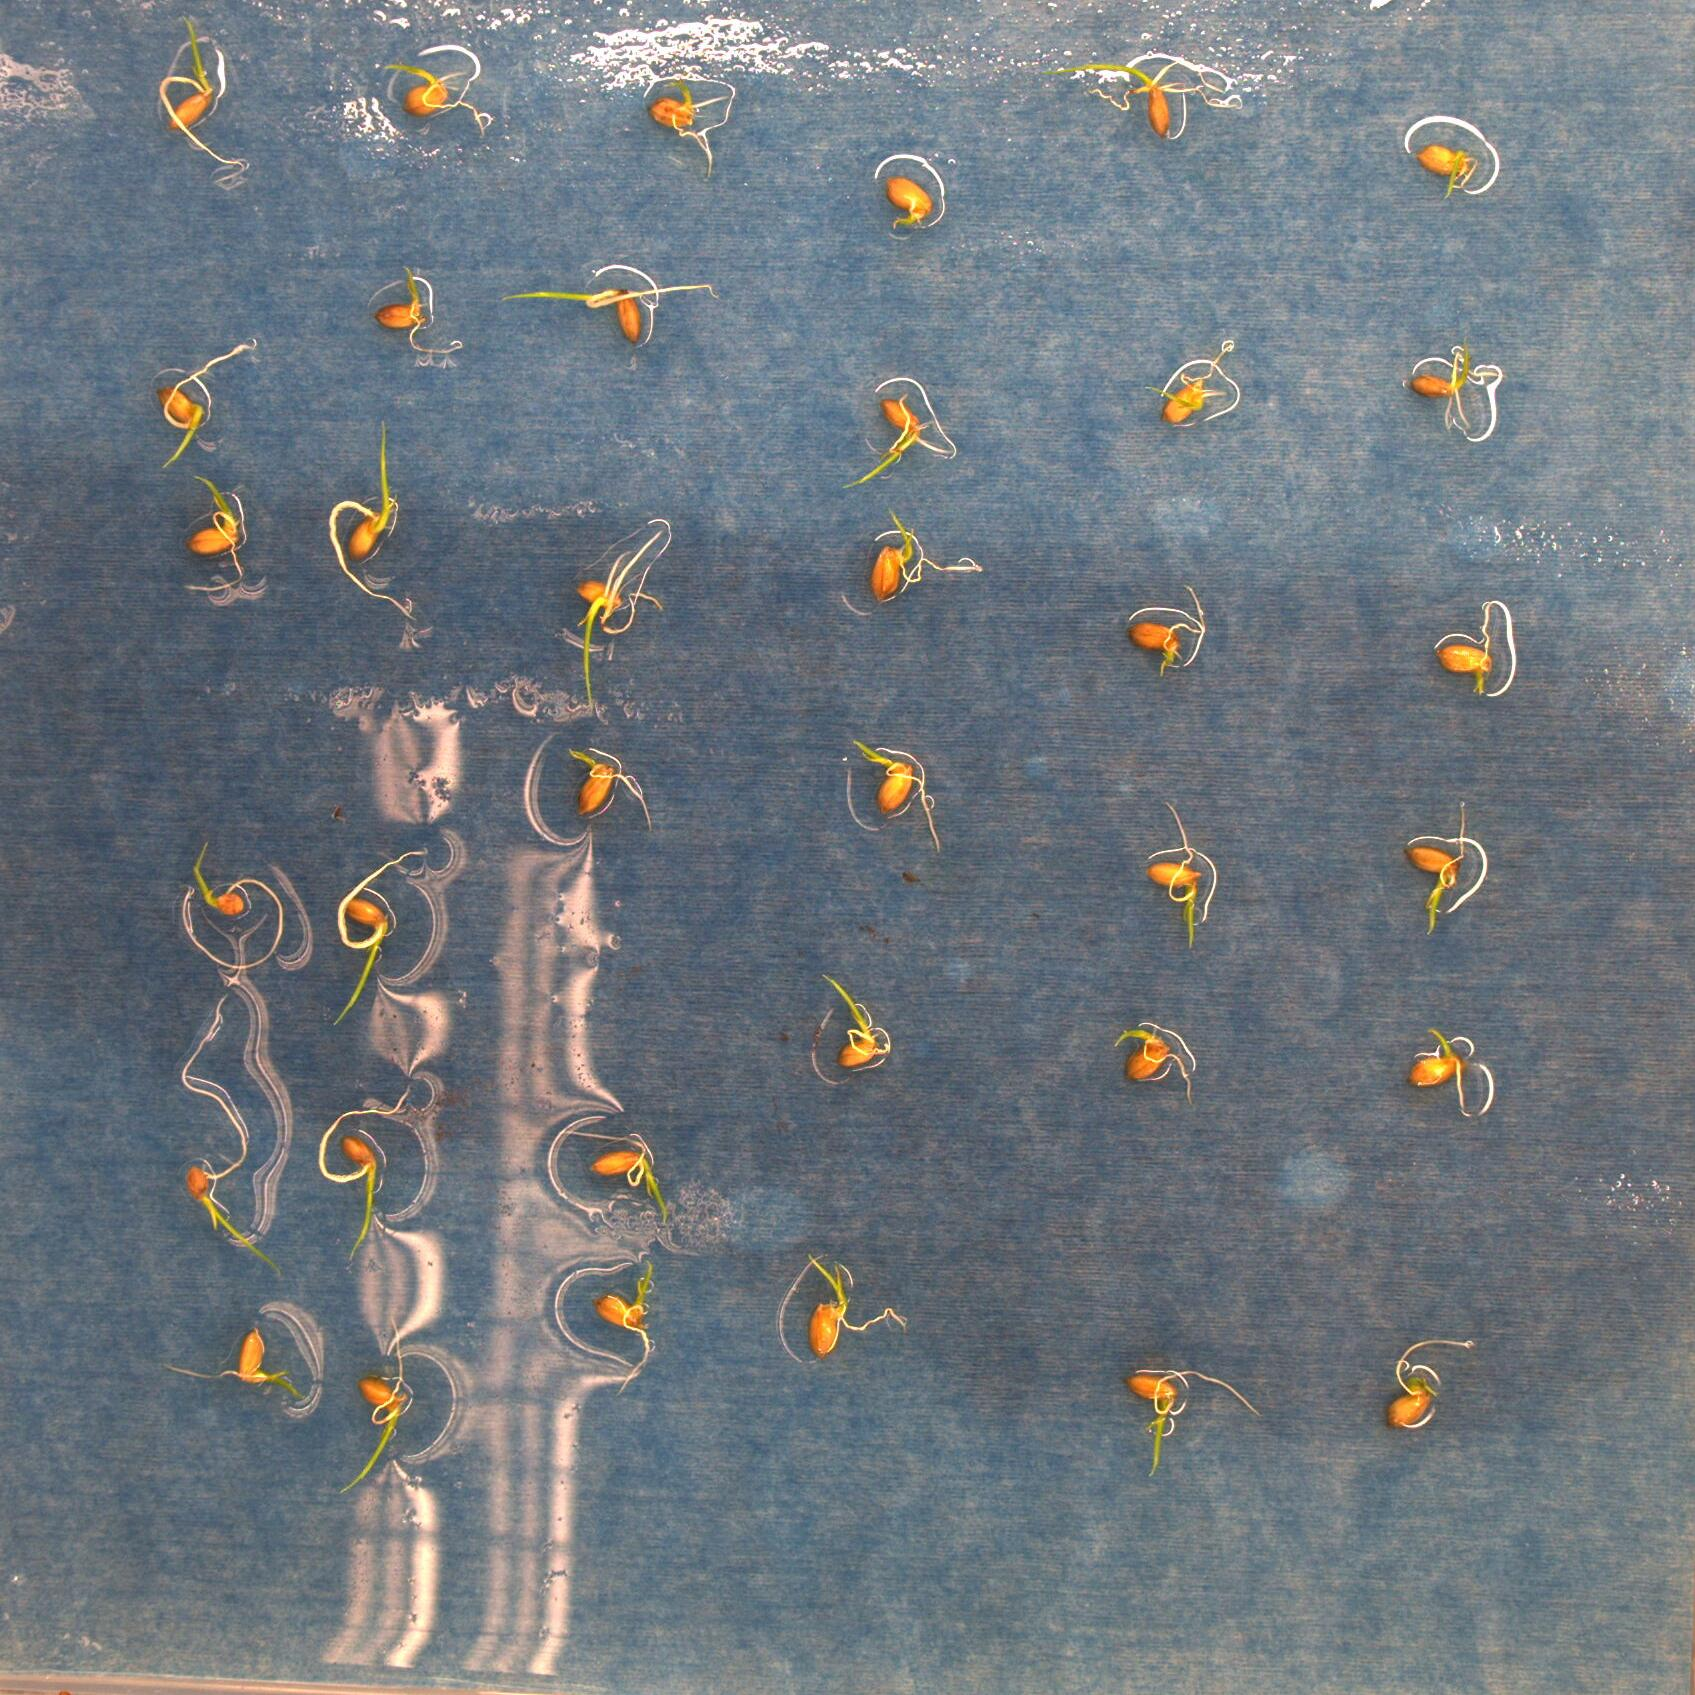not sprout: (649, 88, 719, 179)
sprout: (182, 997, 282, 1284), (326, 422, 418, 622), (331, 847, 435, 1023), (318, 1087, 413, 1257), (577, 526, 661, 708), (1127, 1364, 1260, 1476), (158, 17, 245, 186), (497, 281, 717, 345), (177, 838, 281, 969), (338, 1315, 414, 1492), (157, 335, 258, 466), (553, 1125, 672, 1226), (1063, 65, 1236, 133), (841, 736, 941, 852), (161, 1327, 304, 1405), (802, 1253, 906, 1358), (868, 512, 986, 602), (838, 394, 948, 484), (1142, 798, 1205, 951), (374, 61, 492, 141), (1406, 328, 1489, 438), (594, 1260, 653, 1402), (1402, 802, 1465, 931), (1385, 1343, 1473, 1433), (376, 264, 463, 355), (563, 747, 653, 834), (1125, 584, 1205, 677), (1142, 345, 1226, 432), (1108, 1026, 1197, 1107), (185, 478, 247, 591), (823, 972, 894, 1065), (1405, 1029, 1473, 1122), (1433, 598, 1495, 692), (1412, 141, 1478, 206), (880, 175, 930, 231)
